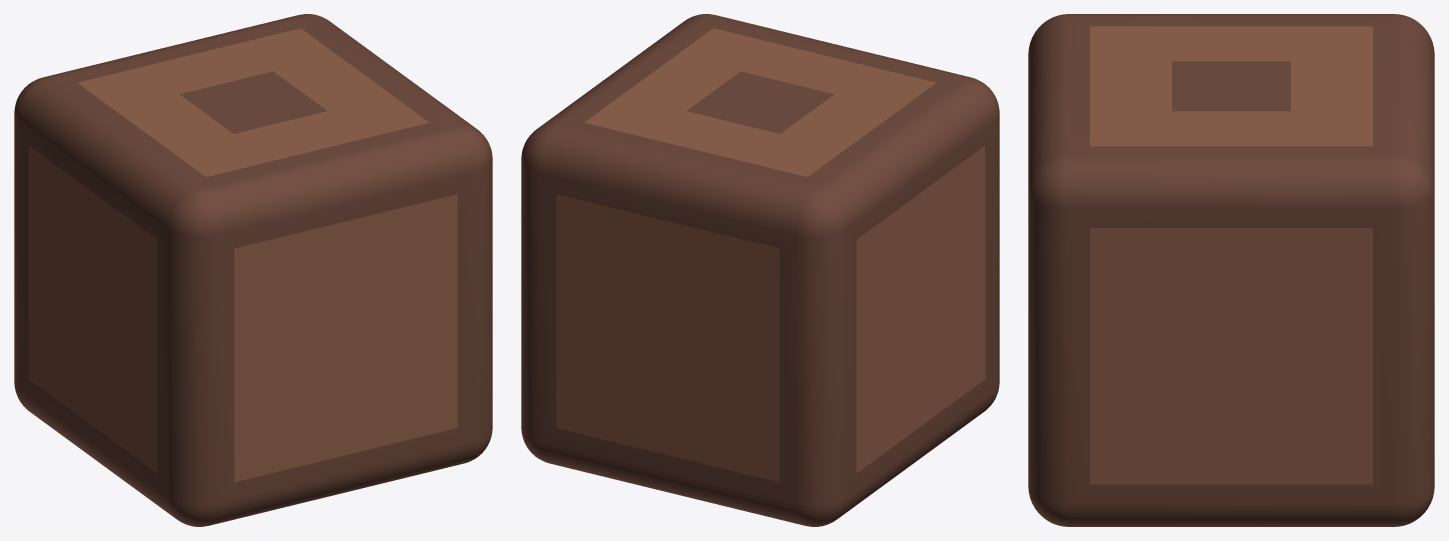
Rendered from dirt_tile.glb.
The picture shows the model from 3 angles, left to right: view 1: azimuth 30°, elevation 25°; view 2: azimuth 150°, elevation 25°; view 3: azimuth 270°, elevation 25°; orthographic projection. The views are drawn at different scales.
Parts seen in each view (by area): view 1: dirt_tile; view 2: dirt_tile; view 3: dirt_tile.
Boxes of the visible parts, left/top/right/bottom form: dirt_tile: left=14, top=14, right=492, bottom=526; dirt_tile: left=521, top=14, right=999, bottom=526; dirt_tile: left=1028, top=14, right=1434, bottom=526.
Size of the model in its own units: 0.99 by 0.99 by 0.99.
